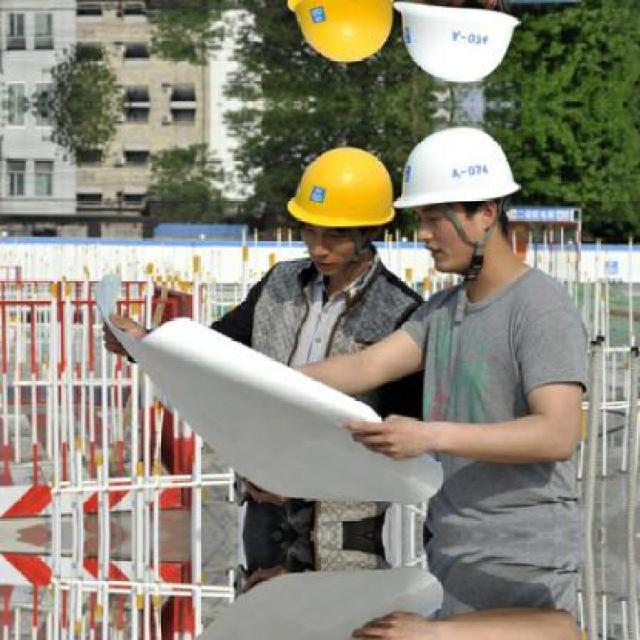helmet: (388, 122, 526, 275), (287, 140, 396, 278), (388, 0, 526, 85), (286, 0, 397, 66)
